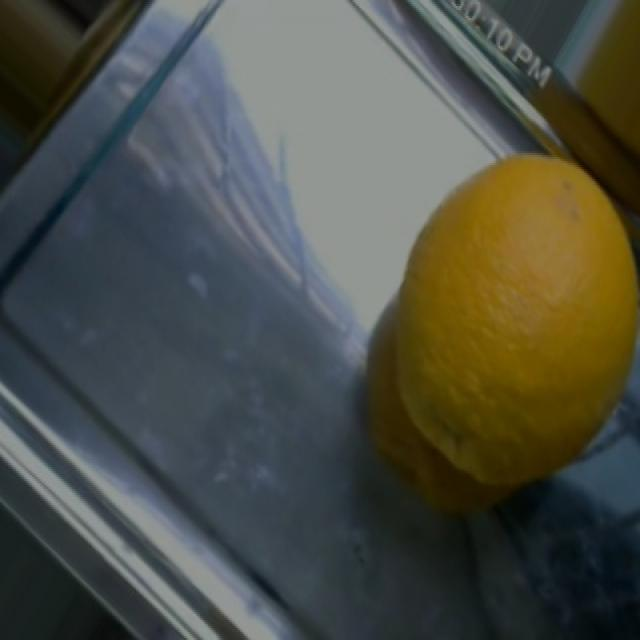Fruit: (362, 141, 638, 517), (557, 0, 640, 183)
